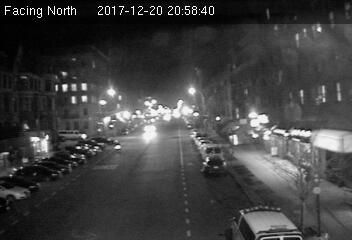car: (203, 155, 226, 175)
police: (232, 203, 304, 240)
